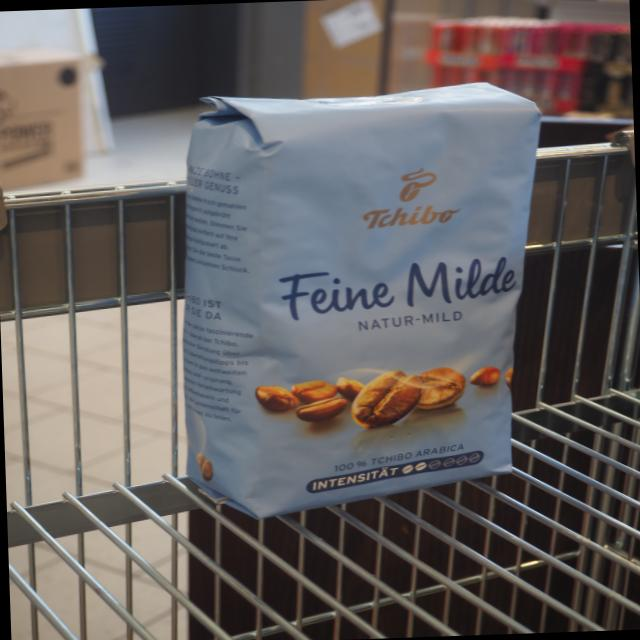FM Bohne: (161, 74, 560, 526)
